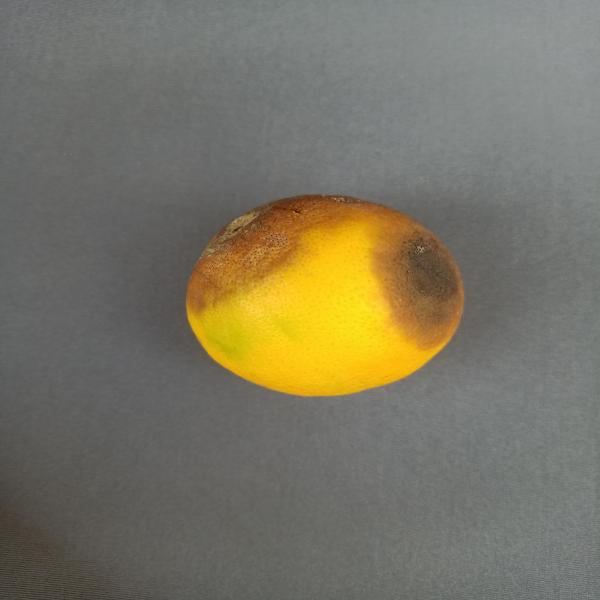Scab: (149, 170, 488, 402)
